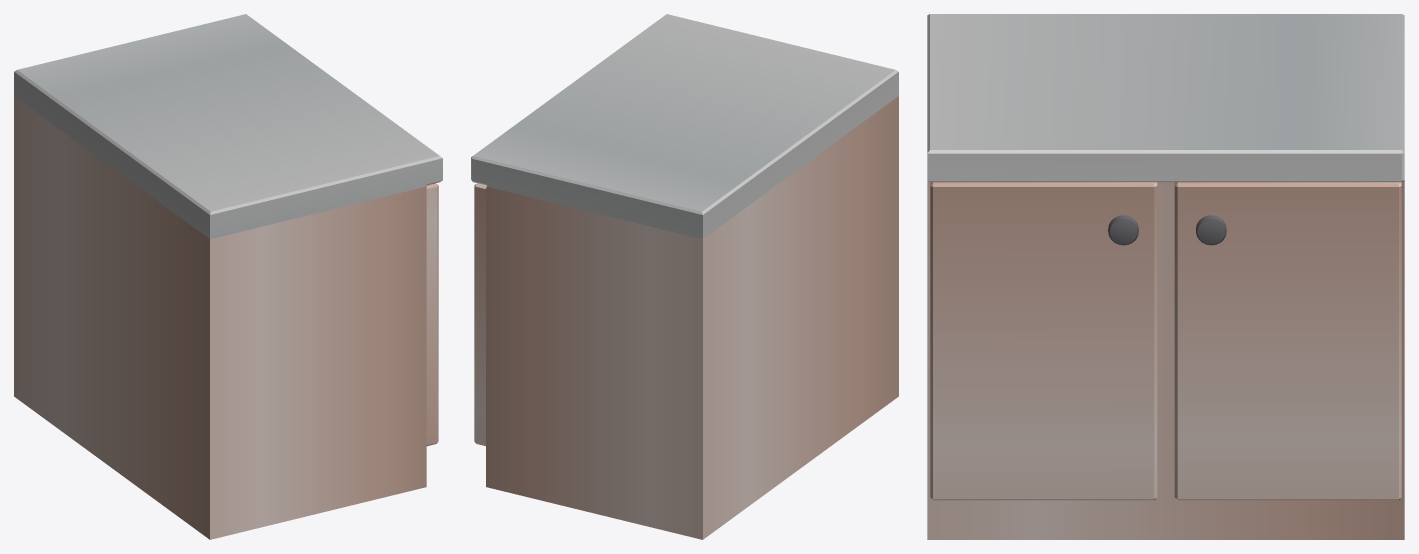
Rendered from CabinetDouble1.fbx.
3 renders of one model, left to right at view 1: azimuth 30°, elevation 25°; view 2: azimuth 150°, elevation 25°; view 3: azimuth 270°, elevation 25°, orthographic. The views are drawn at different scales.
Visible parts, largest first — view 1: CabinetDouble; view 2: CabinetDouble; view 3: CabinetDouble.
Boxes of the visible parts, <box> form: CabinetDouble: <box>14,14,442,539</box>; CabinetDouble: <box>471,14,898,539</box>; CabinetDouble: <box>927,14,1404,539</box>.
Size of the model in its own units: 69.45 by 89.25 by 96.99.
